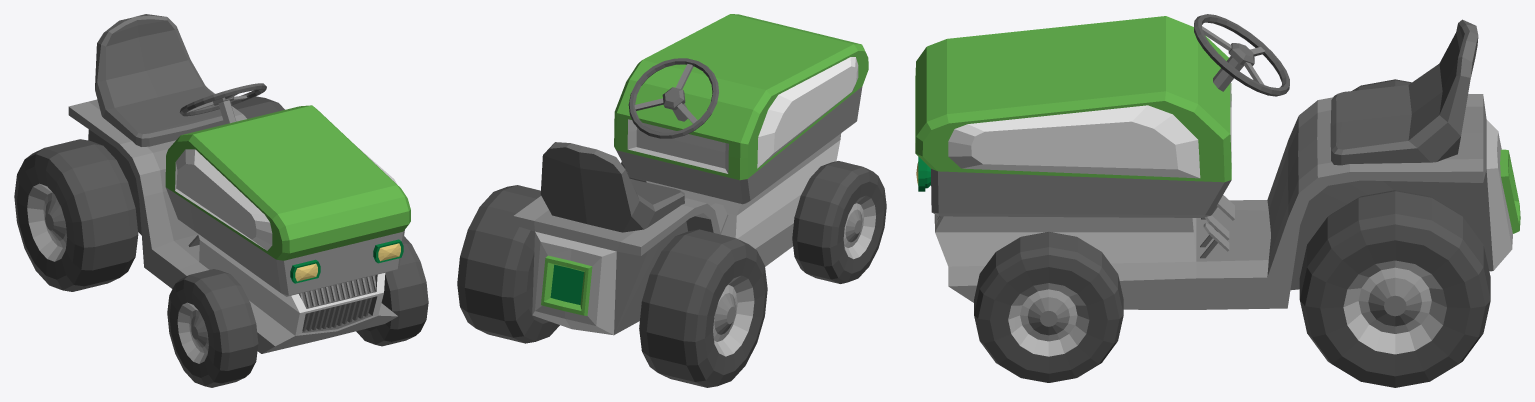
Rendered from LawnMower_B.gltf.
3 views of the same model, side by side, from view 1: azimuth 30°, elevation 25°; view 2: azimuth 150°, elevation 25°; view 3: azimuth 270°, elevation 25° (orthographic). The views are drawn at different scales.
Visible parts, largest first — view 1: SM_StylizedFarm_LawnMower_B; view 2: SM_StylizedFarm_LawnMower_B; view 3: SM_StylizedFarm_LawnMower_B.
Part boxes in pixels (x1,y1,x2,y2): SM_StylizedFarm_LawnMower_B: (14,14,428,387); SM_StylizedFarm_LawnMower_B: (457,14,886,387); SM_StylizedFarm_LawnMower_B: (915,14,1520,387).
Size of the model in its own units: 1.83 by 1.7 by 3.13.
Materials: 1 (1 with a texture image).
